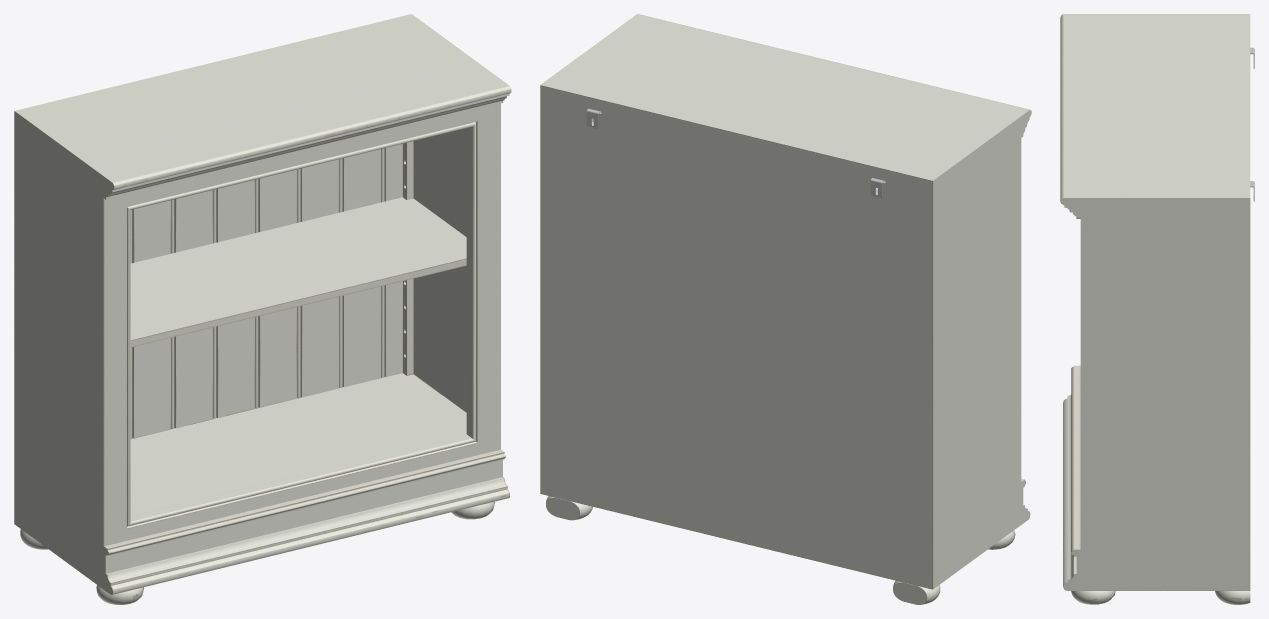
The model's file is example137.glb.
The picture shows the model from 3 angles, left to right: view 1: azimuth 30°, elevation 25°; view 2: azimuth 150°, elevation 25°; view 3: azimuth 270°, elevation 25°; orthographic projection. The views are drawn at different scales.
Parts seen in each view (by area): view 1: PBRD; view 2: PBRD; view 3: PBRD.
Part boxes in pixels (x1,y1,x2,y2): PBRD: (14, 14, 511, 604); PBRD: (540, 14, 1031, 604); PBRD: (1060, 14, 1250, 604).
Size of the model in its own units: 1 by 1.04 by 0.4453.
2 materials, 1 textured.
